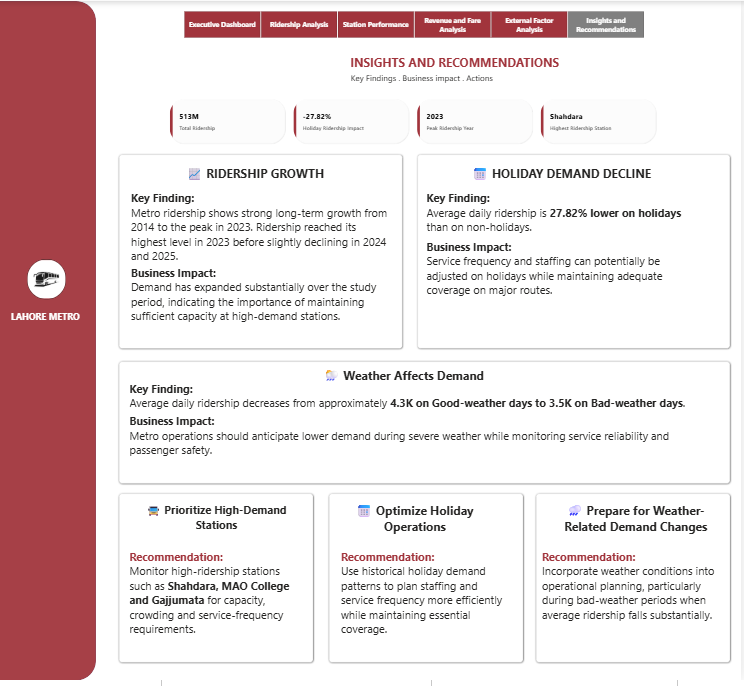

This screenshot's page, from the dashboard's own definition file:
{"tool":"powerbi","page":{"name":"Insights and Recommendations","canvas":[8000,7300],"ordinal":5},"visuals":[{"type":"shape","box":[0,0,1064.4,7305.5],"z":0},{"type":"textbox","box":[145.1,3322.2,774.1,370.9],"z":1000},{"type":"image","box":[322.5,2773.8,419.3,435.4],"z":2000},{"type":"textbox","box":[3420,570,3120,450],"z":3000},{"type":"cardVisual","fields":{"Data":["lahore_metro_analysis ridership.Total Ridership","lahore_metro_analysis holidays.Holiday Ridership Difference %","lahore_metro_analysis ridership.Peak Ridership Year","lahore_metro_analysis fare_history.Highest Ridership Station"]},"box":[1820,1010,5300,550],"z":4000},{"type":"pageNavigator","box":[2020,120,4940,280],"z":5000},{"type":"shape","box":[1290,1630,3090,2130],"z":6000},{"type":"textbox","box":[1820,1750,1910,290],"z":7000},{"type":"textbox","box":[1430,2040,2820,1460],"z":8000},{"type":"shape","box":[4499.4,1628.8,3402.8,2128.8],"z":9000},{"type":"textbox","box":[5010,1750,2110,290],"z":10000},{"type":"textbox","box":[4620,2040,2840,1210],"z":11000},{"type":"shape","box":[1290.2,3854.4,6612.1,1354.7],"z":12000},{"type":"textbox","box":[3420,3930,1910,290],"z":13000},{"type":"textbox","box":[1420,4080,6040,980],"z":14000},{"type":"shape","box":[1290,5280,2130,1860],"z":15000},{"type":"shape","box":[3550,5280,2130,1860],"z":16000},{"type":"shape","box":[5770,5280,2130,1860],"z":17000},{"type":"textbox","box":[1420,5390,1880,360],"z":18000},{"type":"textbox","box":[1420,5880,1880,1120],"z":19000},{"type":"textbox","box":[3700,5390,1600,580],"z":20000},{"type":"textbox","box":[6040,5390,1640,360],"z":21000},{"type":"textbox","box":[3700,5880,1820,1120],"z":22000},{"type":"textbox","box":[5860,5880,1960,860],"z":23000}]}

Visuals, with their boxes in screenshot pixels (x1, y1, x2, y2), scaled from the page's 8000x7300 canvas onto the 744x686 screenshot:
shape: (0, 0, 99, 685)
textbox: (13, 312, 85, 347)
image: (30, 261, 69, 302)
textbox: (318, 54, 608, 96)
cardVisual - lahore_metro_analysis ridership.Total Ridership x lahore_metro_analysis holidays.Holiday Ridership Difference %: (169, 95, 662, 147)
pageNavigator: (188, 11, 647, 38)
shape: (120, 153, 407, 353)
textbox: (169, 164, 347, 192)
textbox: (133, 192, 395, 329)
shape: (418, 153, 735, 353)
textbox: (466, 164, 662, 192)
textbox: (430, 192, 694, 305)
shape: (120, 362, 735, 490)
textbox: (318, 369, 496, 397)
textbox: (132, 383, 694, 476)
shape: (120, 496, 318, 671)
shape: (330, 496, 528, 671)
shape: (537, 496, 735, 671)
textbox: (132, 507, 307, 540)
textbox: (132, 553, 307, 658)
textbox: (344, 507, 493, 561)
textbox: (562, 507, 714, 540)
textbox: (344, 553, 513, 658)
textbox: (545, 553, 727, 633)
